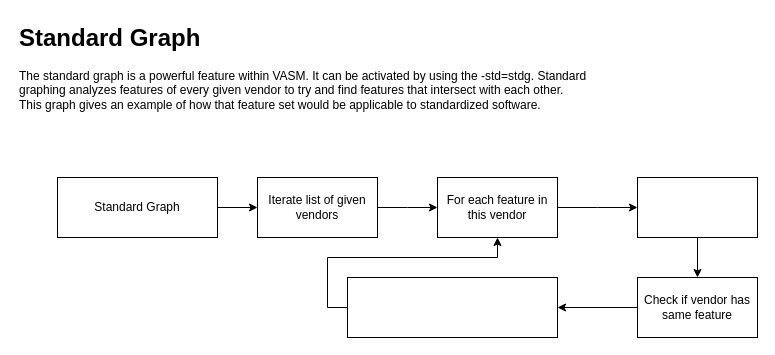
Some shapes in this 775 by 355 pixel diagram are drawn without their labels. Each missing label, with the box of its shape:
add to standard graph. This instruction is supported by every vendor: (346, 276, 558, 338)
Iterate over every vendor once again: (636, 176, 758, 238)
